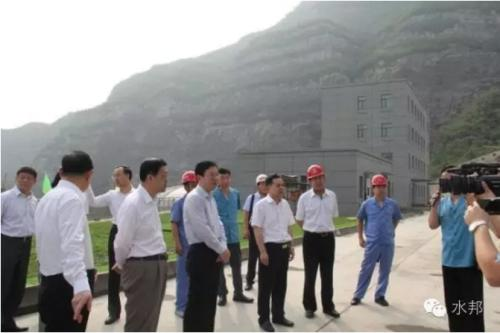boots: (272, 316, 294, 325), (259, 319, 275, 331), (232, 293, 253, 302), (2, 324, 28, 331), (323, 307, 340, 316), (104, 314, 119, 324), (375, 296, 389, 306), (175, 308, 185, 317), (218, 294, 226, 305), (351, 297, 360, 305), (305, 310, 314, 318), (245, 284, 252, 290)
hard-hat: (306, 164, 325, 180), (182, 170, 197, 183), (371, 175, 387, 187)
person: (428, 164, 496, 332), (34, 150, 96, 332), (112, 156, 169, 332), (182, 160, 230, 332), (85, 166, 137, 324), (250, 174, 296, 332), (295, 164, 340, 318), (351, 174, 402, 306), (1, 166, 39, 331), (462, 178, 500, 331), (212, 168, 253, 306), (169, 169, 198, 318), (462, 179, 500, 286), (242, 173, 269, 290)
